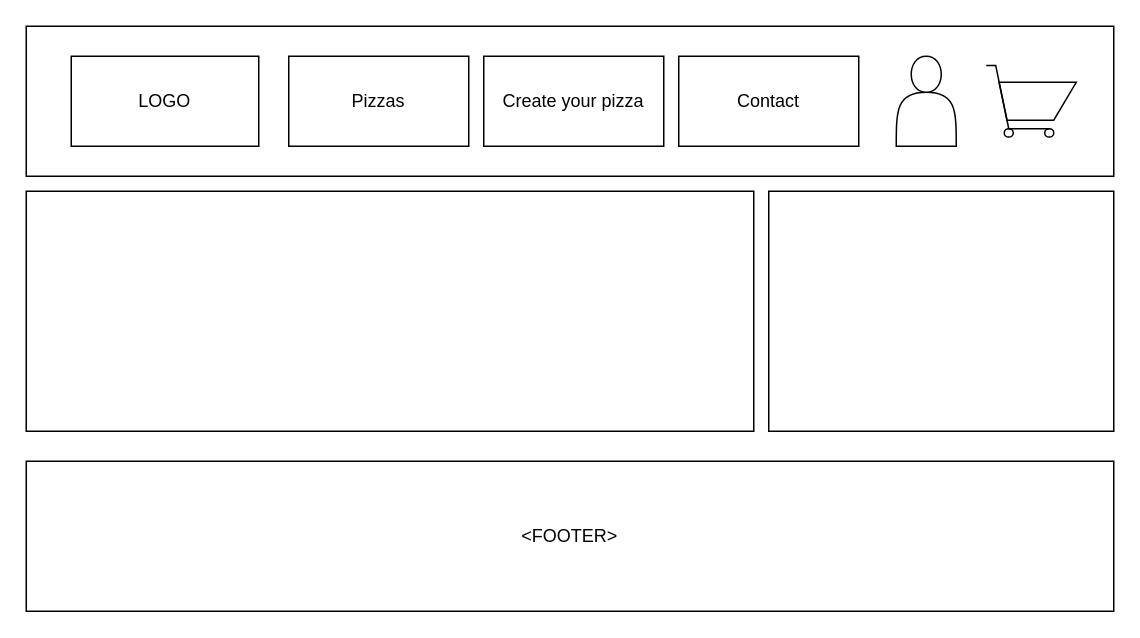
The diagram is 1140 pixels wide and 638 high, and some of its shapes have lost their labels. The shapes that lost their labels are listed below. From the top down, each one's centre as x and y in pixels, then its label:
At [389,310]: "<PIZZA FOTO>".
At [940,310]: "<REGISTER FORM>".
